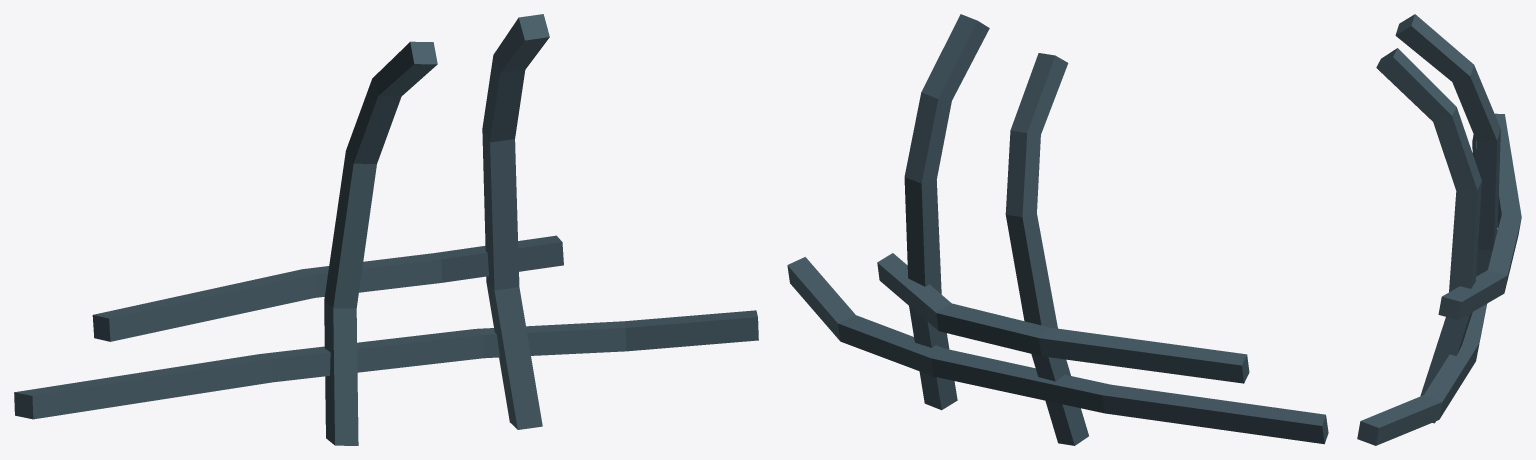
The model's file is Ship_051.glb.
3 renders of one model, left to right at view 1: azimuth 30°, elevation 25°; view 2: azimuth 150°, elevation 25°; view 3: azimuth 270°, elevation 25°, orthographic. The views are drawn at different scales.
Parts seen in each view (by area): view 1: Ship_051; view 2: Ship_051; view 3: Ship_051.
Part boxes in pixels (x1,y1,x2,y2): Ship_051: (14,14,758,445); Ship_051: (787,14,1328,445); Ship_051: (1357,14,1521,445).
Size of the model in its own units: 6.17 by 3.73 by 1.54.
1 material, 1 textured.
